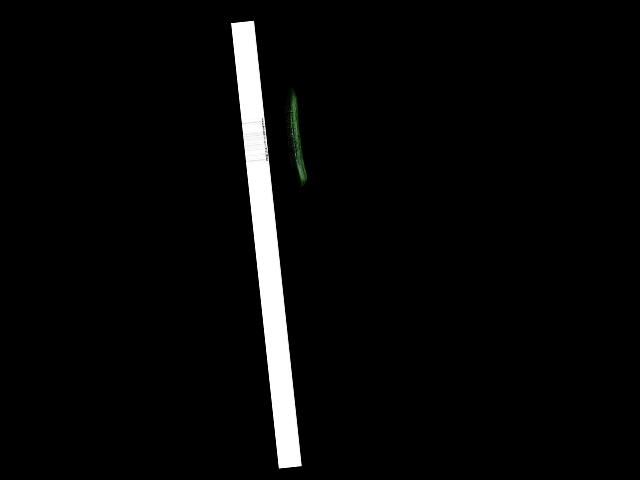cucumber: (281, 85, 307, 188)
